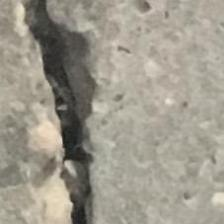Crack: (8, 0, 150, 224)
